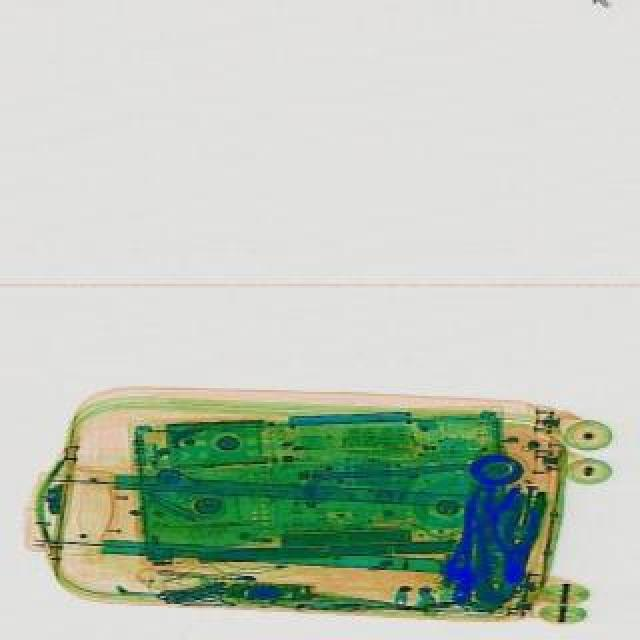wrench: (460, 482, 544, 610), (482, 486, 542, 582)
